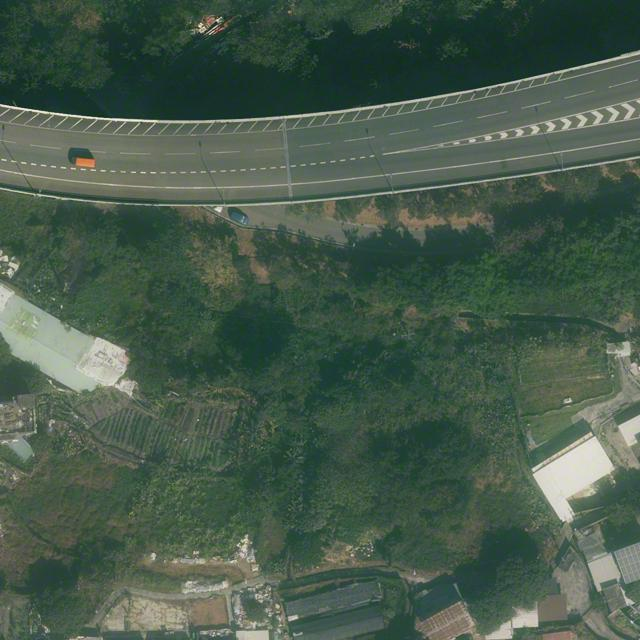panel: (614, 543, 639, 584)
